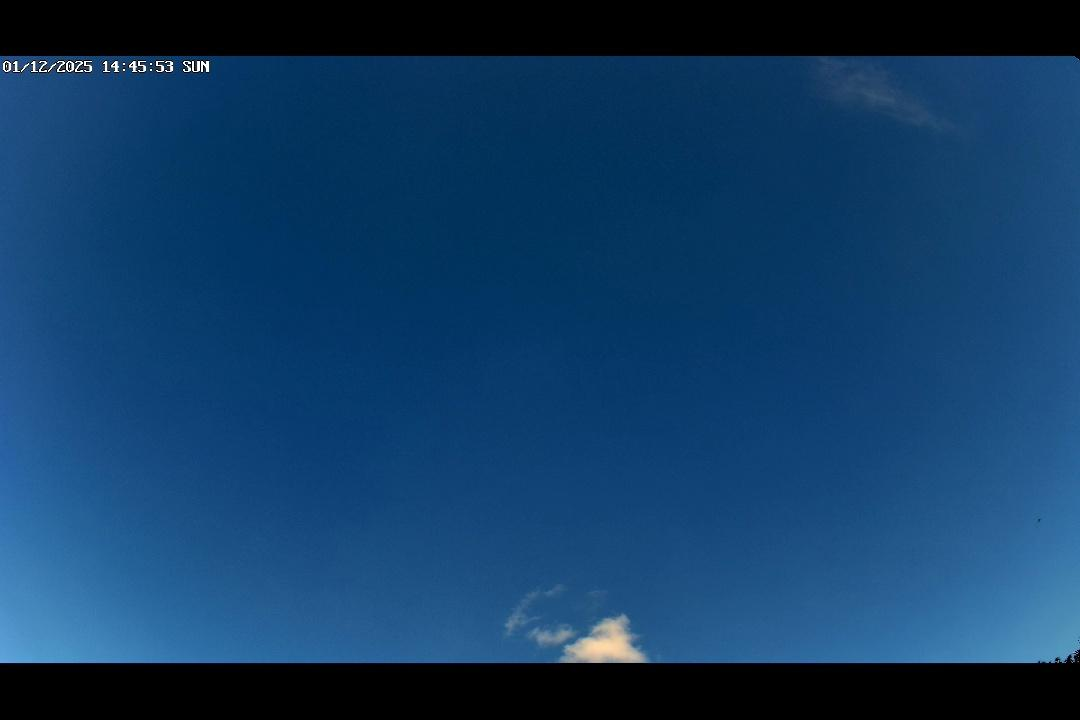WildLife: (1031, 514, 1046, 526)
